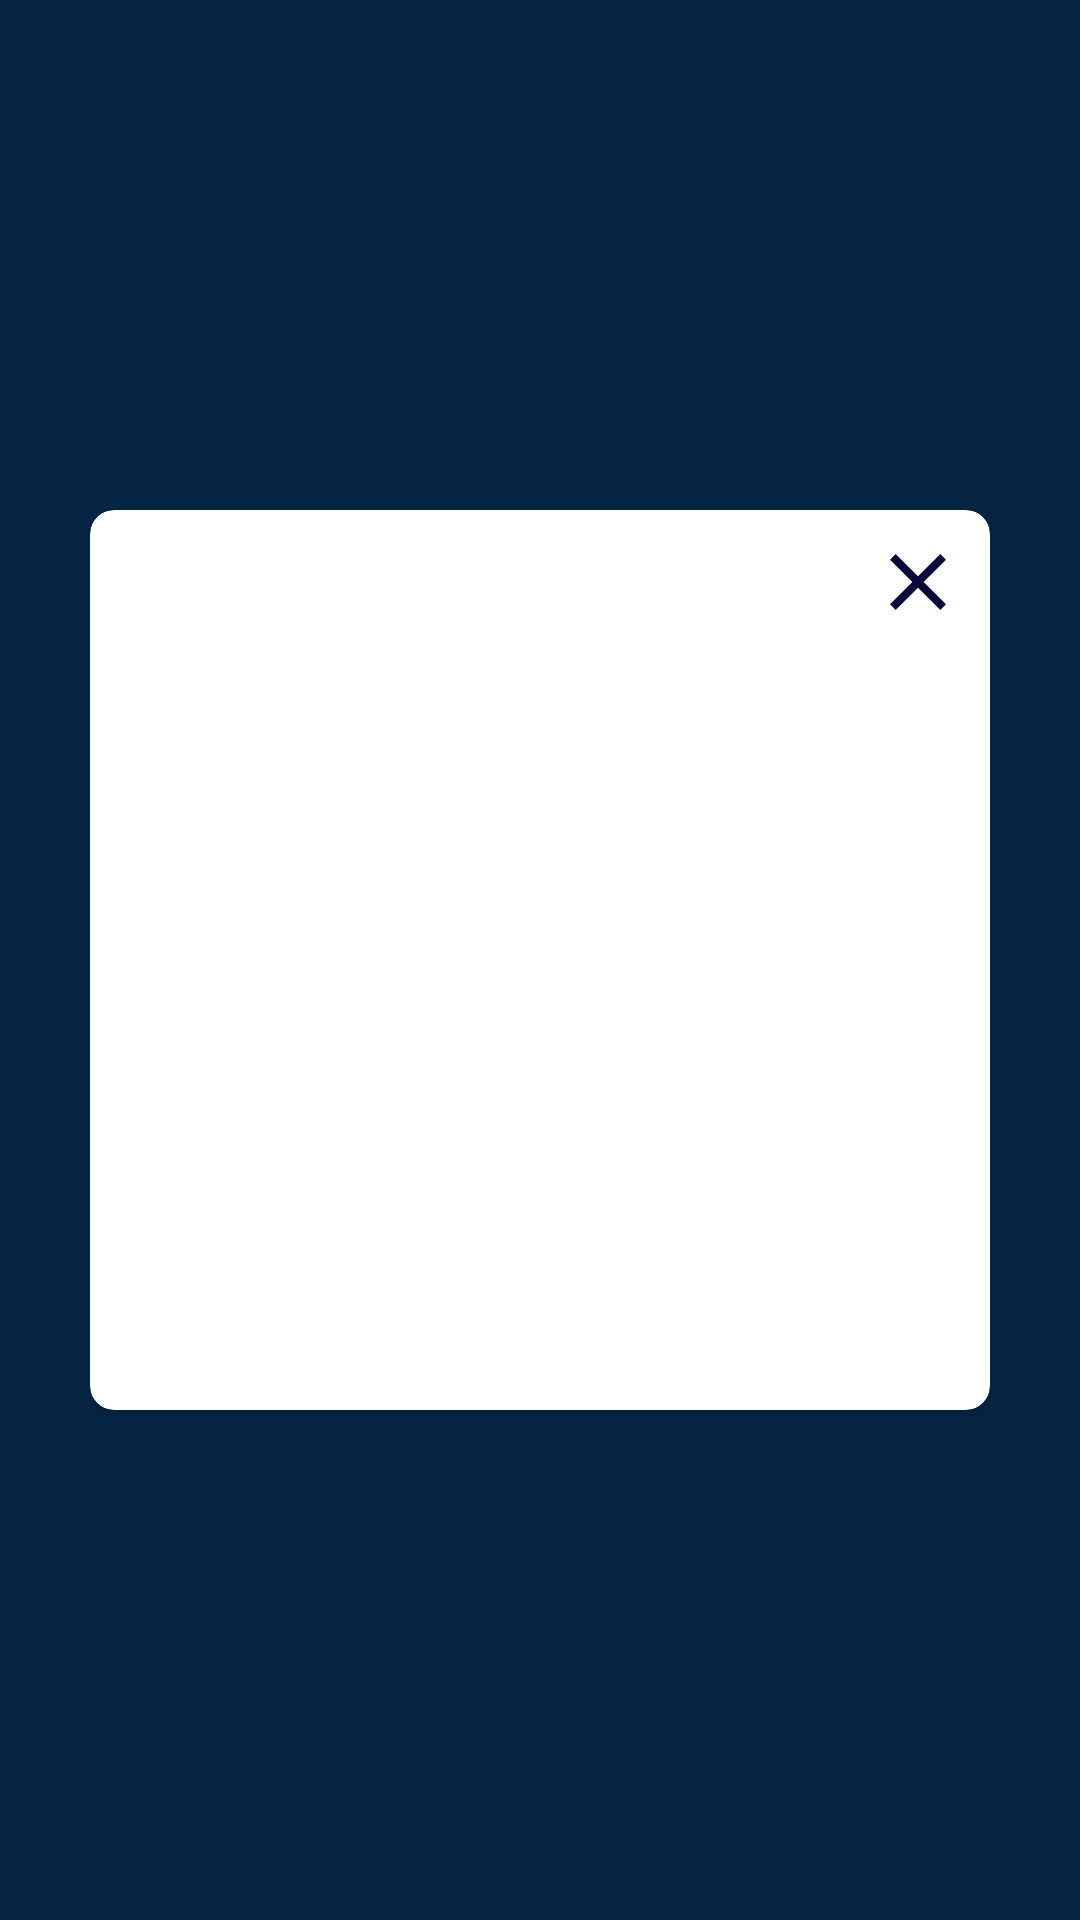

Icon bounding boxes for this 1080*1920 phone screenshot, format (x1, y1, x2, y2):
close: (890, 554, 946, 610)
